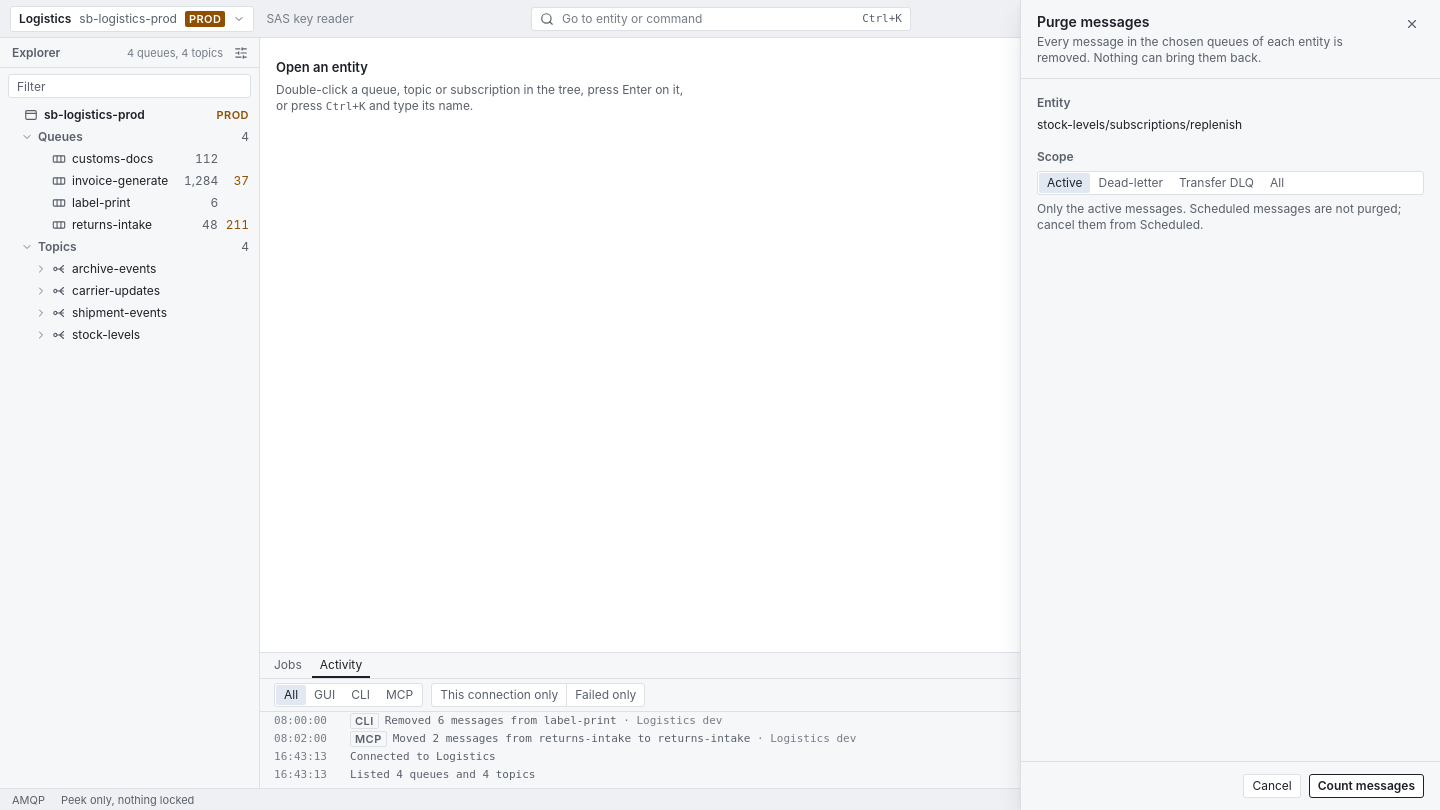
Test: operation sheets after review › purge names the scope in words, says how counts expire and what to do about an unknown one
This screenshot has width=1440, height=810.
Click the radio button labelled "Transfer DLQ" at (1216, 183), box top-left (1171, 173), bottom-right (1262, 193)
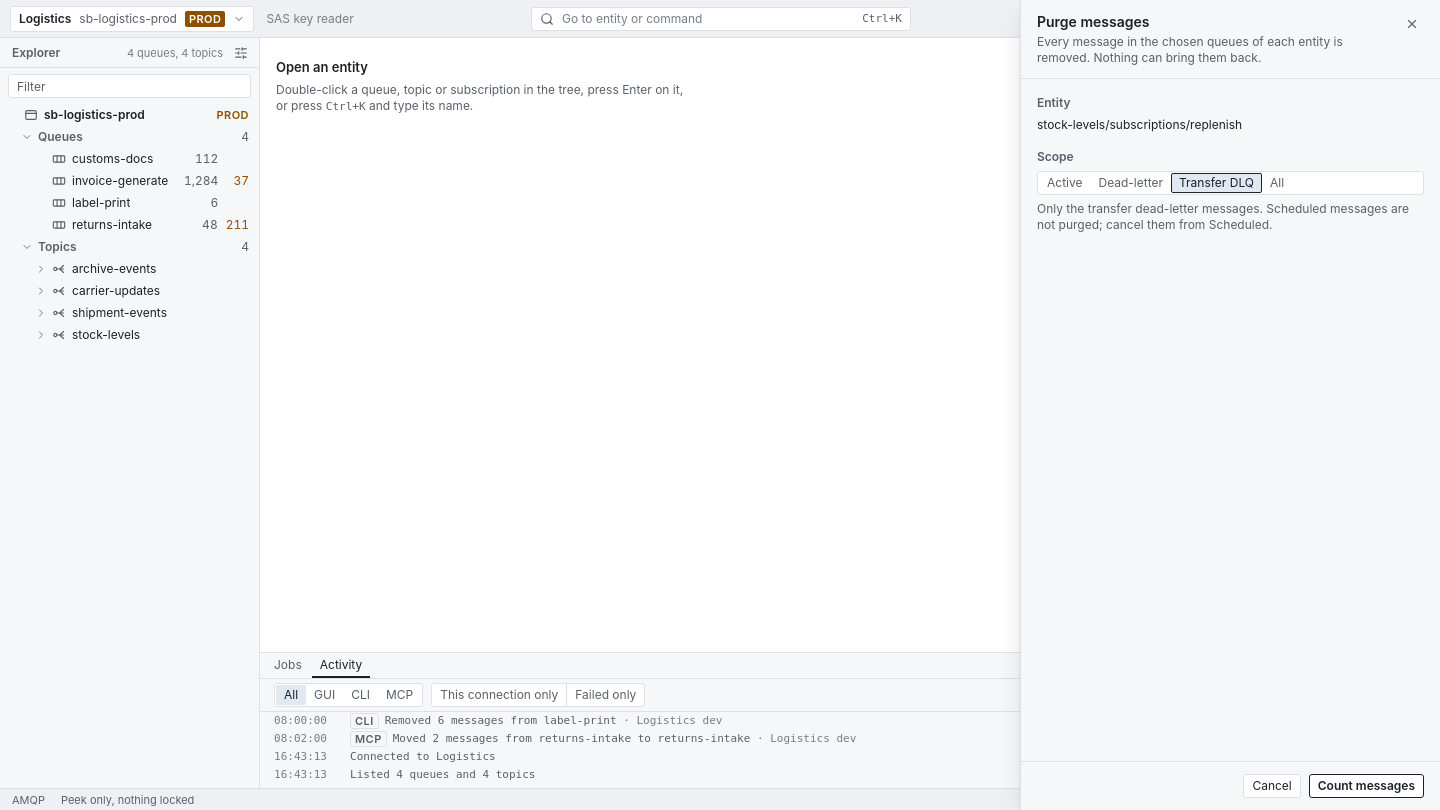
Result: the text "Only the transfer dead-letter messages." is shown at top-left (1037, 201), bottom-right (1263, 216)
Click the button "Count messages" at (1366, 786), box top-left (1309, 774), bottom-right (1424, 798)
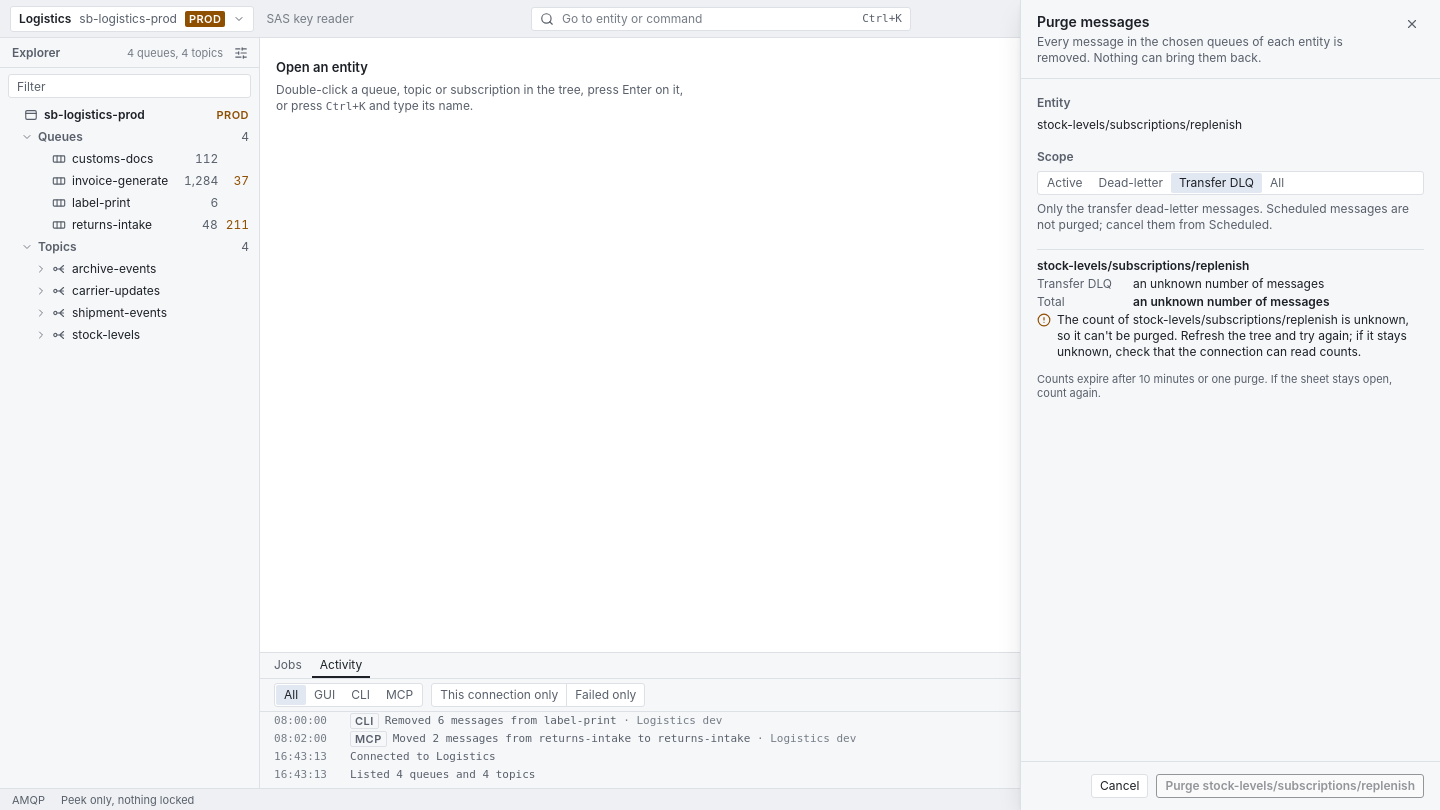
Result: the text "Refresh the tree and try again" is shown at top-left (1057, 312), bottom-right (1409, 359)
Result: the text "Counts expire after 10 minutes or one purge. If the sheet stays open, count again." is shown at top-left (1037, 372), bottom-right (1392, 400)
Result: the element named "Plan for stock-levels/subscriptions/replenish" is shown at top-left (1037, 249), bottom-right (1424, 360)
